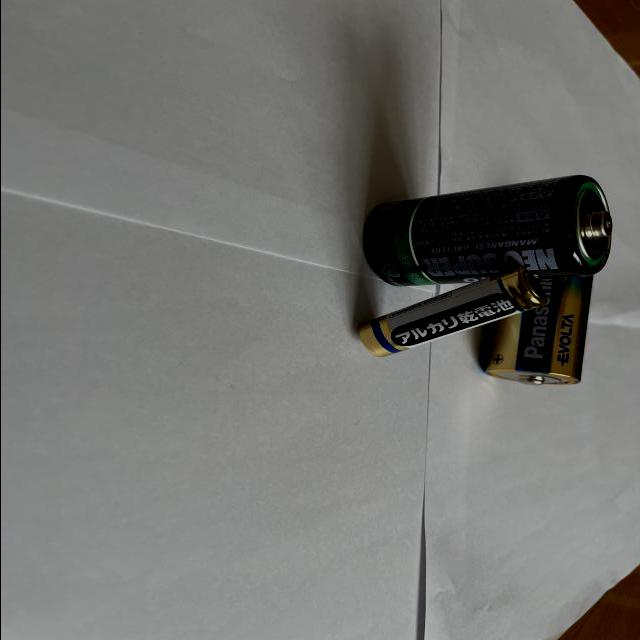AA: (354, 274, 546, 358)
